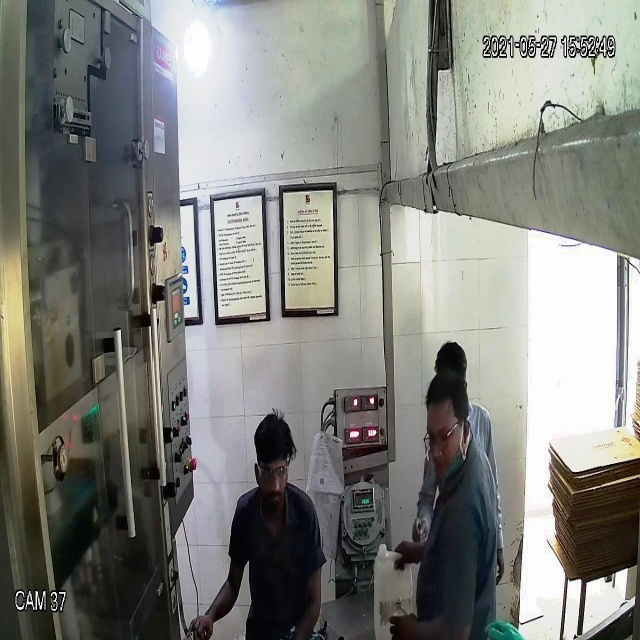Gafas: (422, 421, 466, 455), (254, 460, 292, 488)
